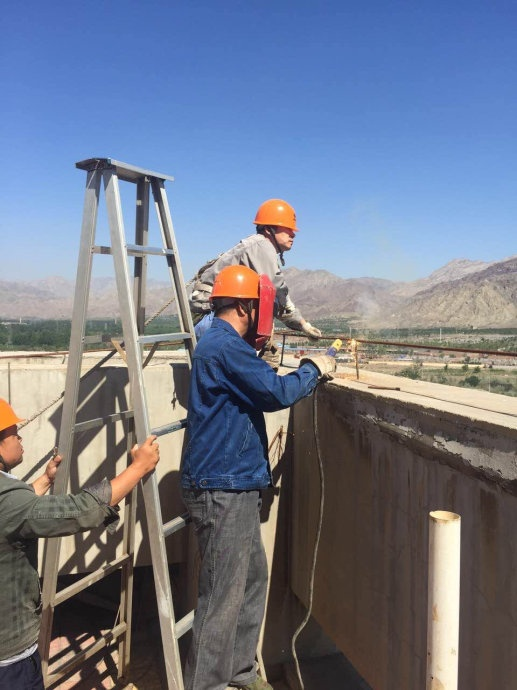yellow: (206, 260, 273, 336), (252, 195, 303, 252), (2, 401, 29, 476)
